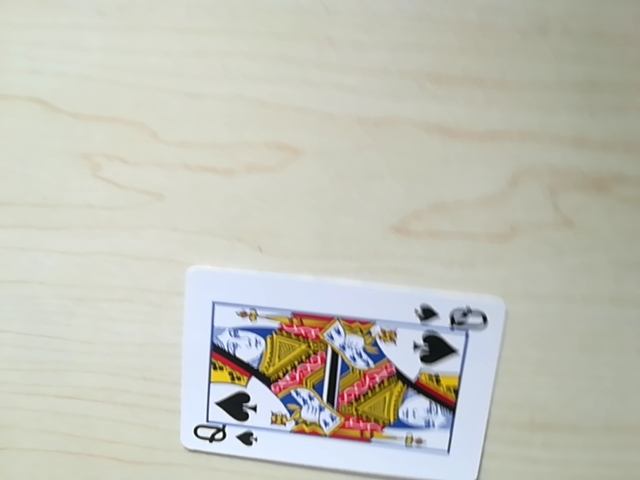ht q: (415, 298, 491, 336), (188, 418, 258, 453)
